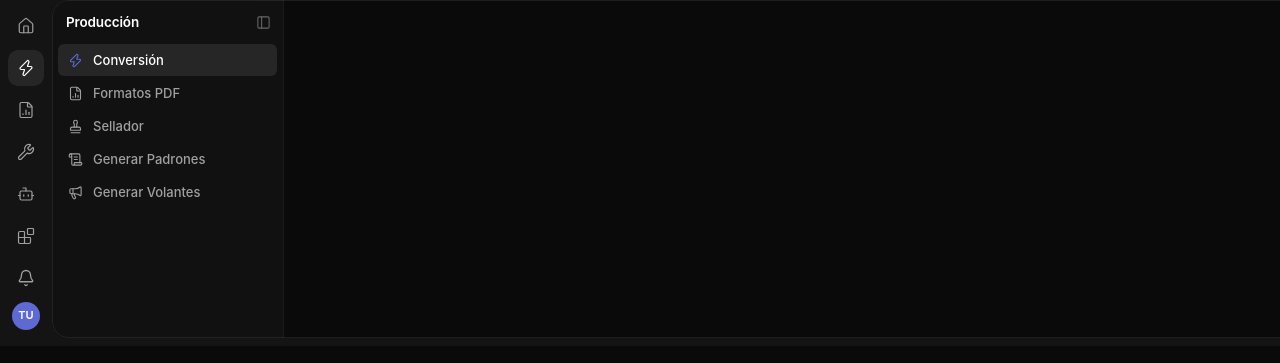
Test: Sidebar › collapses the panel with the toggle and reopens it from the rail
What coordinates should you click on to do the following:
click the button with test id "sidebar-toggle"
I would click on:
 (263, 22)
Its box is [249,8,277,36].
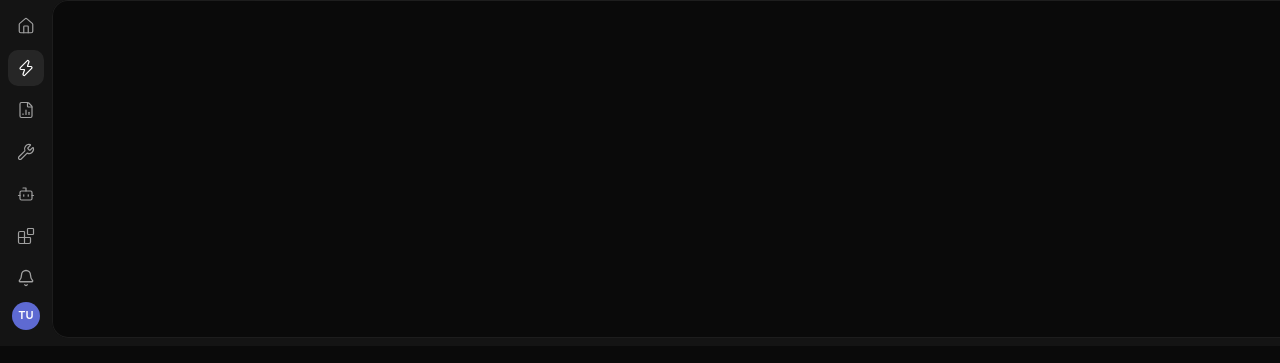
What coordinates should you click on to do the following:
click the button with test id "sidebar-group-reportes"
I would click on:
 (26, 110)
Its box is [8,92,44,128].
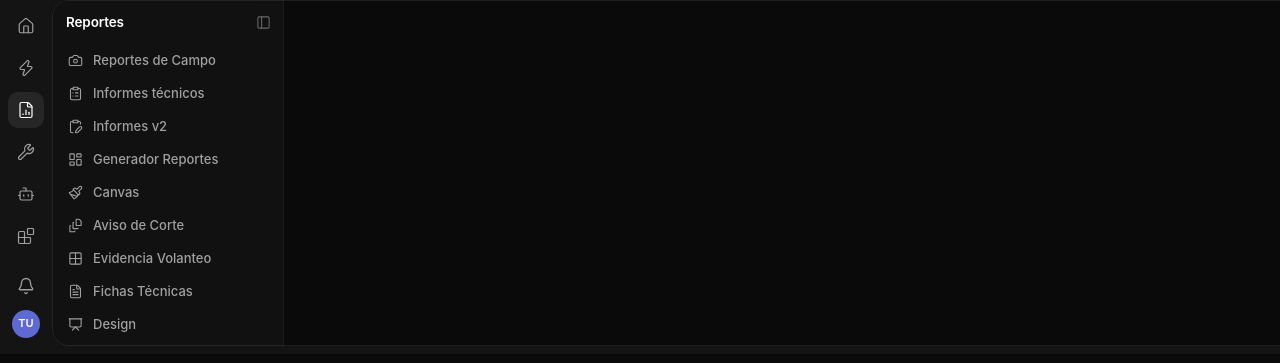
Expected: the heading "Reportes" is shown, [66,12,124,31]
